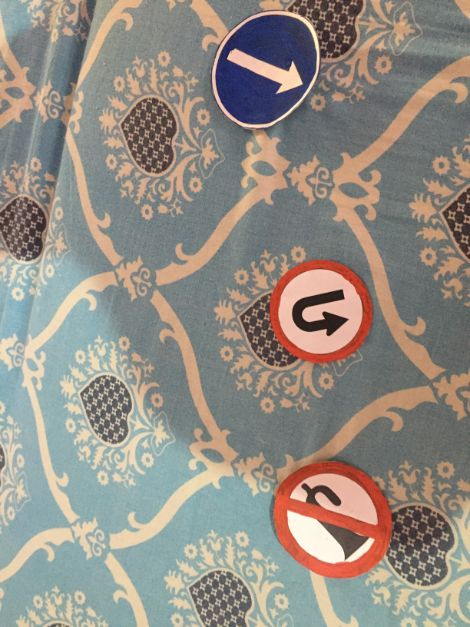go-stright: (202, 12, 322, 132)
no-horn: (270, 458, 391, 579)
u-turn: (269, 256, 377, 364)
